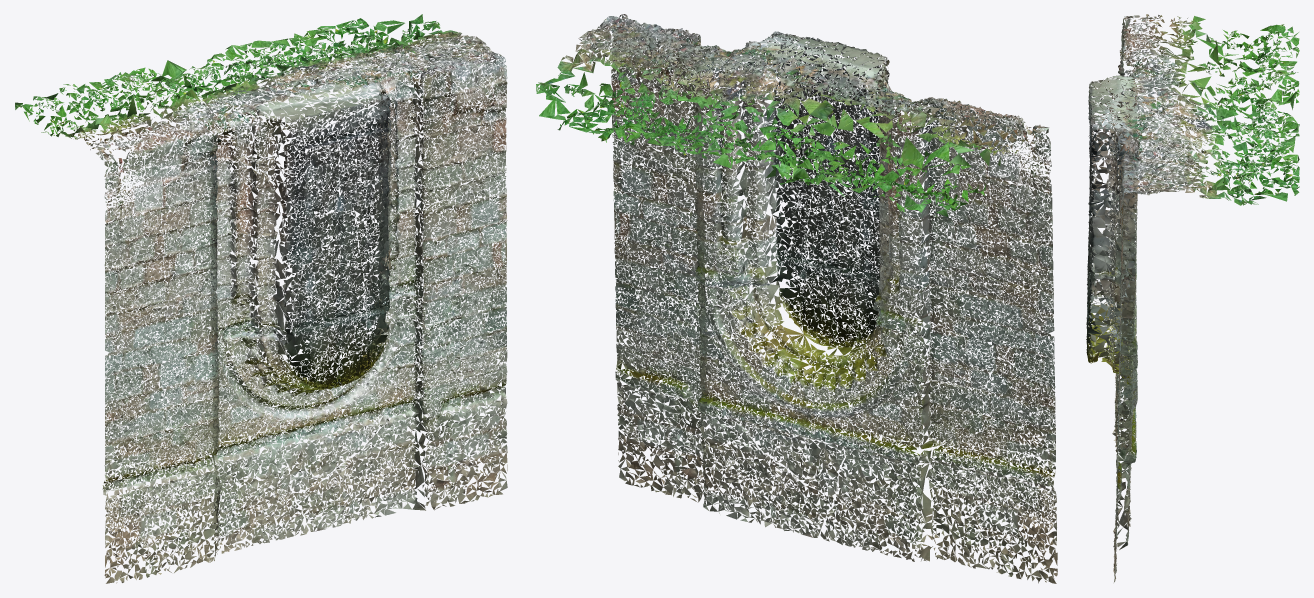
The model's file is church-doorway.glb.
3 renders of one model, left to right at view 1: azimuth 30°, elevation 25°; view 2: azimuth 150°, elevation 25°; view 3: azimuth 270°, elevation 25°, orthographic. The views are drawn at different scales.
Visible parts, largest first — view 1: Model; view 2: Model; view 3: Model.
Part boxes in pixels (x1,y1,x2,y2): Model: (15, 14, 507, 583); Model: (536, 14, 1057, 583); Model: (1086, 14, 1299, 582).
Bounding box in the file's own units: 10.87 × 11.31 × 5.41.
1 material, 1 textured.
